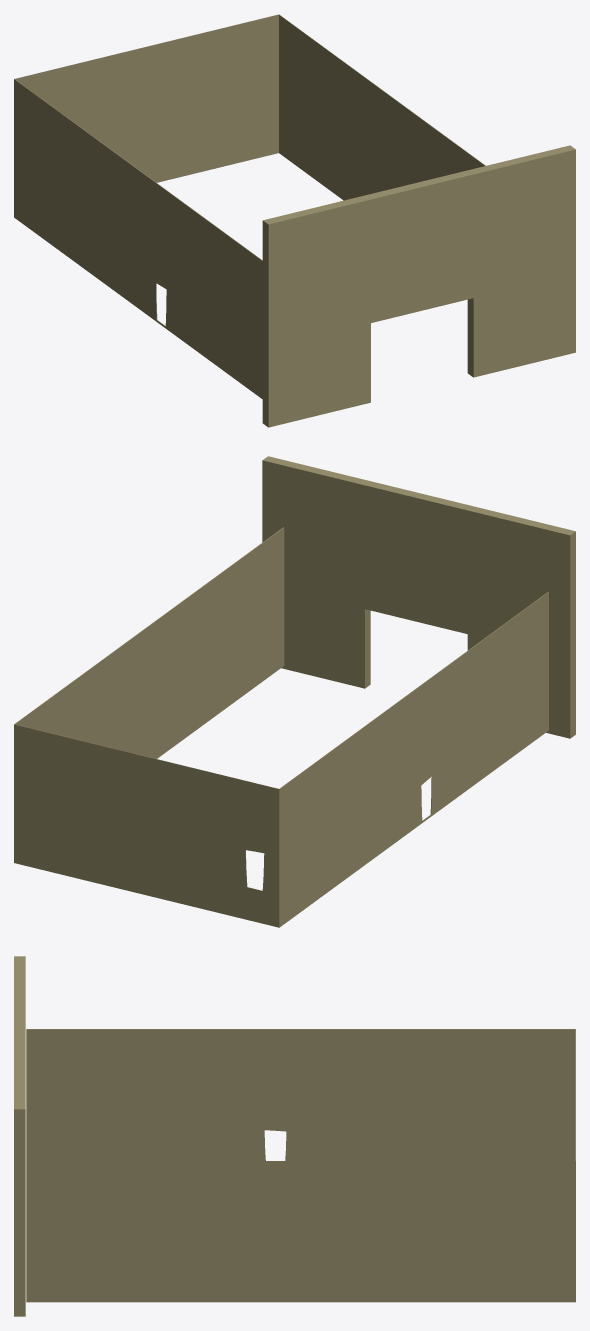
Rendered from walls.fbx.
3 renders of one model, top to bottom at view 1: azimuth 30°, elevation 25°; view 2: azimuth 150°, elevation 25°; view 3: azimuth 270°, elevation 25°, orthographic. The views are drawn at different scales.
Parts seen in each view (by area): view 1: wall; view 2: wall; view 3: wall.
Boxes of the visible parts, bbox=[...] form: wall: bbox=[14, 14, 575, 427]; wall: bbox=[14, 456, 575, 927]; wall: bbox=[14, 956, 575, 1316].
Size of the model in its own units: 5127 by 3237 by 7954.
